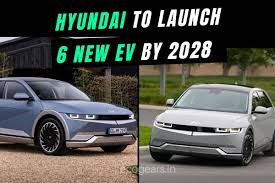Honda Ioniq: (148, 78, 275, 177)
